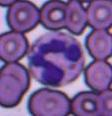N: (28, 31, 84, 86)
